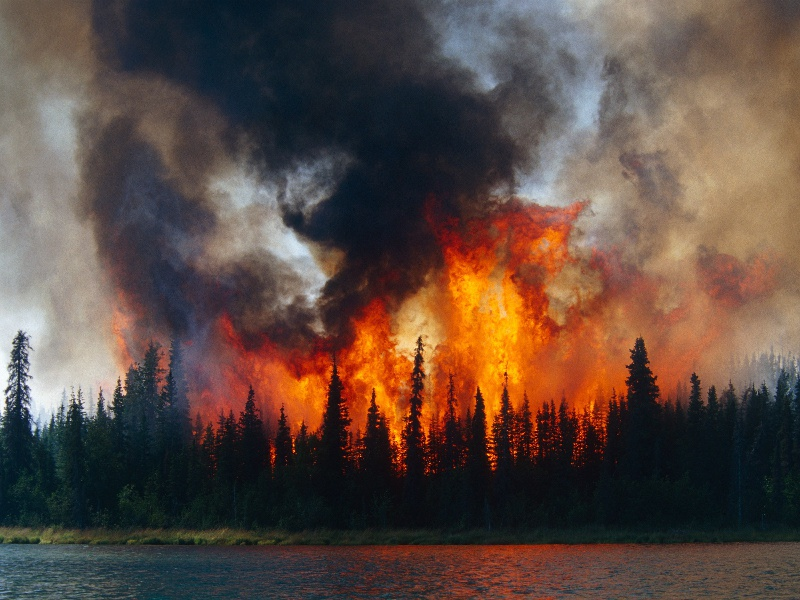fire: (205, 212, 648, 476), (108, 299, 142, 388)
